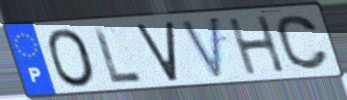C: (274, 13, 332, 72)
H: (225, 13, 288, 77)
L: (90, 25, 145, 86)
O: (45, 26, 100, 89)
V: (178, 14, 224, 82), (134, 19, 180, 84)
